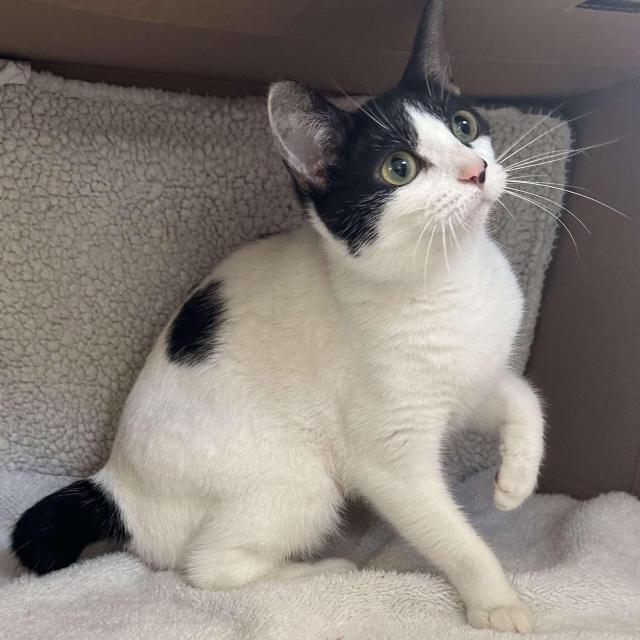American Bobtail: (8, 0, 556, 640)
